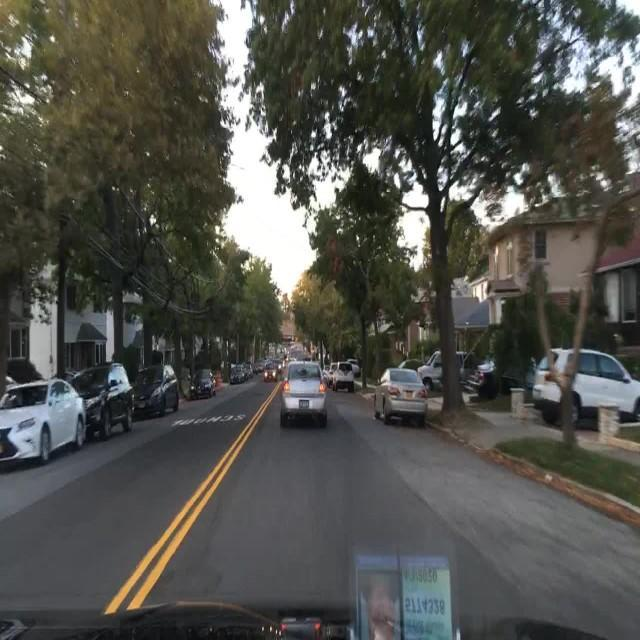normal: (61, 361, 180, 442), (262, 354, 358, 433)
